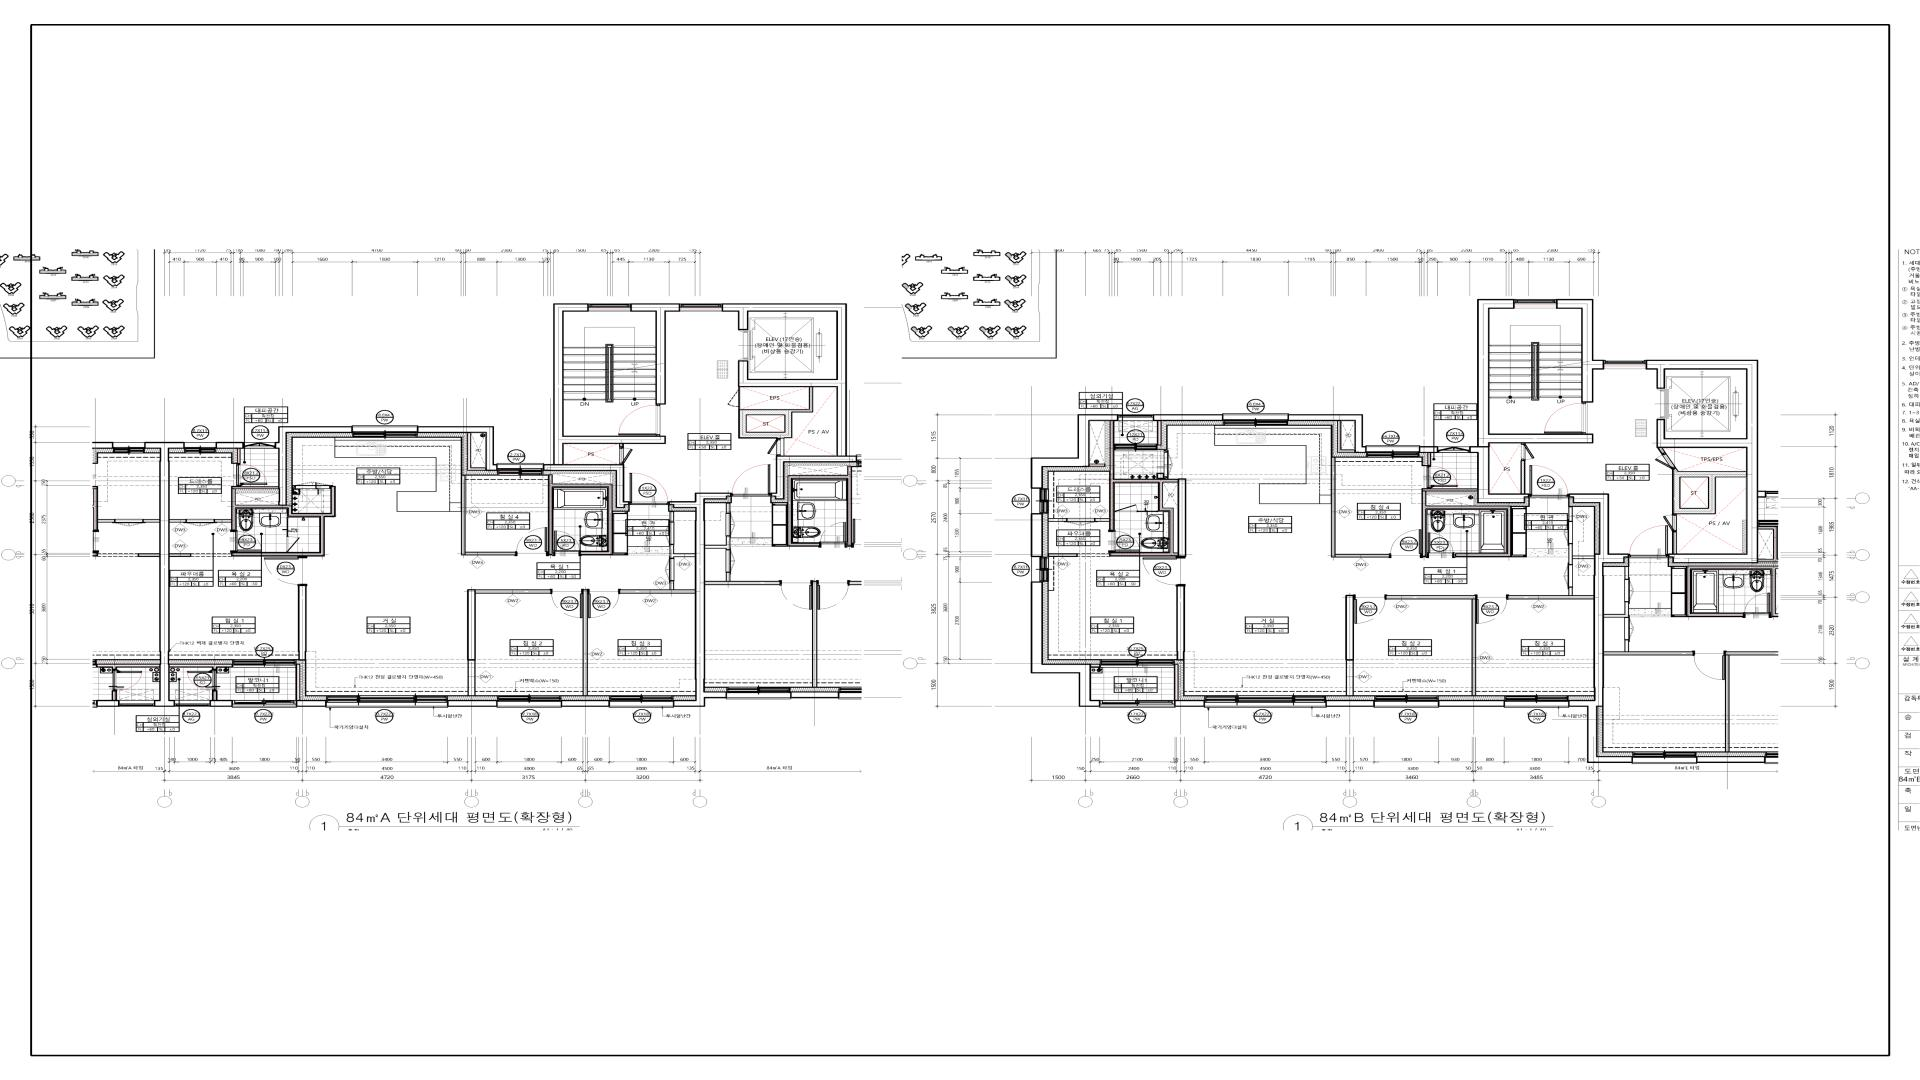door: (1544, 402, 1588, 434), (630, 471, 669, 505), (618, 405, 661, 435), (1142, 556, 1185, 585), (1530, 465, 1568, 498), (265, 556, 307, 585), (587, 589, 621, 618), (1476, 595, 1509, 624), (1353, 595, 1386, 624), (551, 589, 583, 618), (517, 527, 549, 556), (1390, 530, 1423, 558), (229, 530, 262, 553), (1108, 530, 1141, 553), (1427, 533, 1456, 558), (1427, 465, 1458, 488), (236, 464, 268, 487), (554, 530, 580, 556), (187, 670, 216, 691), (1652, 454, 1676, 473), (728, 388, 741, 409), (620, 444, 633, 464), (1663, 514, 1677, 531), (1520, 443, 1535, 460), (1164, 450, 1172, 479), (767, 438, 781, 455), (1068, 518, 1096, 526), (286, 537, 301, 551), (186, 520, 215, 526), (1114, 505, 1139, 512)
wall: (721, 303, 857, 500), (1469, 299, 1593, 504), (543, 303, 666, 508), (1646, 360, 1758, 563), (1568, 493, 1633, 764), (669, 493, 732, 707), (144, 442, 185, 707), (1109, 421, 1178, 556), (468, 589, 553, 695), (1387, 596, 1477, 695), (1031, 582, 1100, 707), (231, 487, 336, 556), (1030, 414, 1118, 489), (274, 426, 353, 505), (1331, 458, 1390, 558), (1422, 492, 1511, 558), (547, 475, 613, 555), (630, 303, 680, 405), (1556, 298, 1605, 402), (462, 476, 517, 555), (417, 426, 497, 471), (1672, 468, 1746, 514), (1288, 414, 1366, 454), (1509, 588, 1593, 600), (1345, 595, 1354, 696), (621, 582, 695, 593), (467, 434, 485, 471), (1176, 587, 1185, 661), (1178, 479, 1185, 556), (1030, 513, 1043, 558), (298, 587, 306, 659), (583, 589, 588, 695), (1337, 421, 1354, 452), (1568, 545, 1594, 564), (1153, 414, 1224, 421), (1437, 700, 1506, 707), (170, 663, 233, 670), (670, 543, 695, 559), (447, 700, 498, 707), (1325, 700, 1375, 707), (560, 700, 611, 707), (1422, 488, 1477, 492), (1174, 700, 1205, 707), (295, 700, 327, 707), (216, 442, 245, 448), (295, 665, 301, 700), (1174, 665, 1179, 700), (1520, 460, 1526, 493), (210, 700, 233, 707), (1156, 421, 1162, 446), (1419, 446, 1439, 452), (231, 487, 278, 489), (1672, 531, 1677, 554), (1048, 518, 1068, 522), (1048, 554, 1077, 556), (1427, 454, 1432, 465), (170, 554, 191, 556), (1096, 518, 1109, 522), (1569, 508, 1573, 521), (212, 691, 218, 700), (237, 448, 240, 464), (170, 520, 186, 522), (215, 520, 231, 522), (670, 512, 674, 522), (1658, 448, 1665, 454), (1091, 464, 1105, 467), (1091, 665, 1100, 667)
window: (327, 695, 447, 708), (1205, 695, 1325, 708), (1224, 413, 1288, 426), (353, 425, 417, 438), (1505, 695, 1568, 708), (611, 696, 674, 708), (1375, 696, 1439, 708), (498, 696, 560, 708), (1366, 446, 1419, 458), (497, 463, 543, 476), (1100, 659, 1174, 667), (1100, 700, 1174, 708), (233, 700, 295, 708), (233, 659, 295, 667), (1031, 489, 1048, 513), (1031, 558, 1048, 582), (1515, 299, 1556, 309), (1605, 360, 1646, 369), (185, 443, 216, 454), (1114, 443, 1158, 450), (175, 700, 210, 707), (1118, 414, 1153, 421), (245, 442, 274, 448), (1439, 447, 1469, 452)
